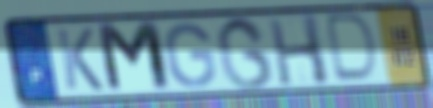D: (325, 12, 381, 86)
G: (214, 14, 276, 92), (162, 20, 219, 90)
H: (265, 13, 333, 89)
K: (53, 26, 107, 93)
M: (93, 19, 176, 96)
